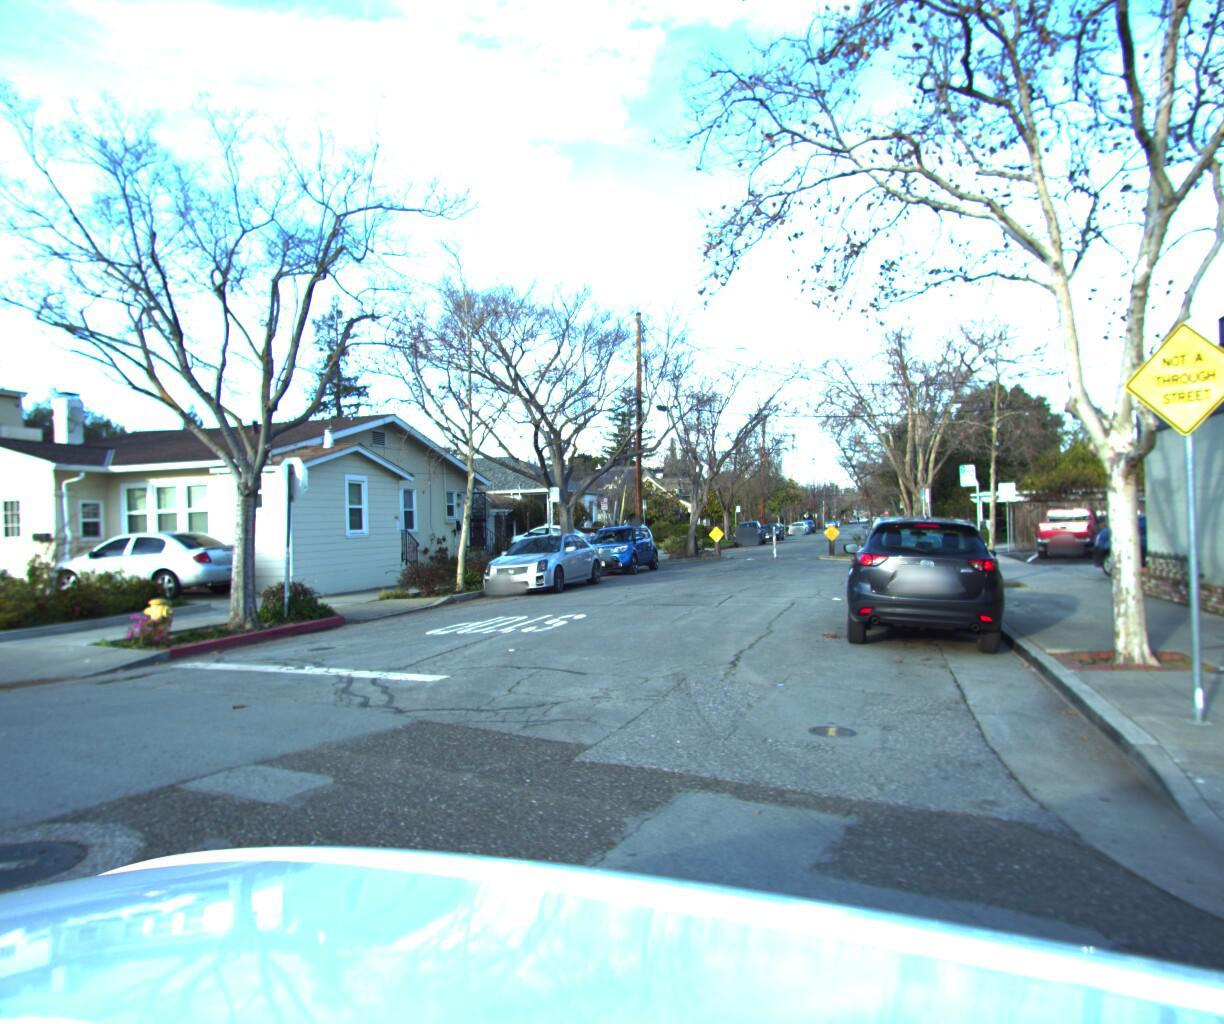car: (848, 499, 1021, 659), (49, 521, 258, 599), (475, 527, 607, 594), (572, 517, 665, 574), (1031, 497, 1107, 555), (506, 514, 598, 548), (864, 509, 905, 542), (730, 515, 770, 542), (757, 511, 788, 533)
